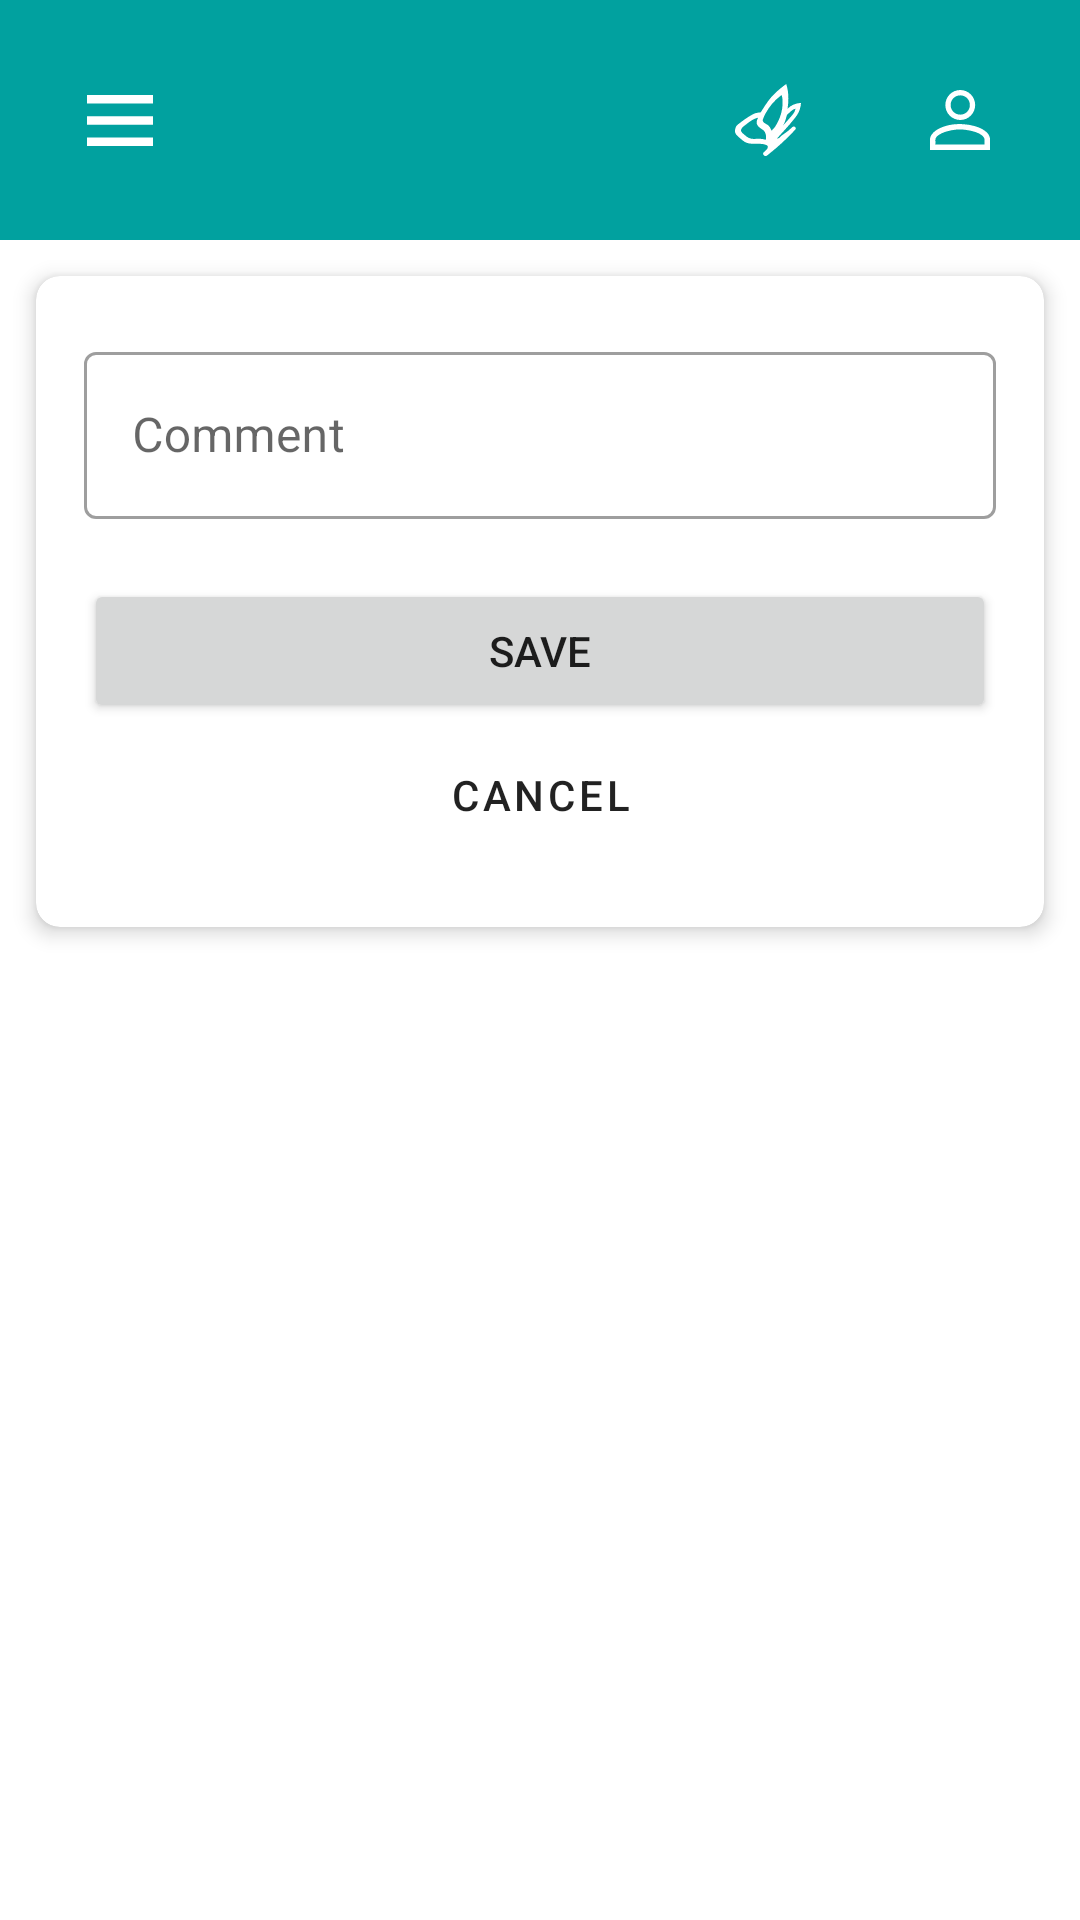

Named icons in this screenshot (1080px×1920px) and their centers, [x,y]:
Authorization: [960,120]
Main menu: [120,120]
